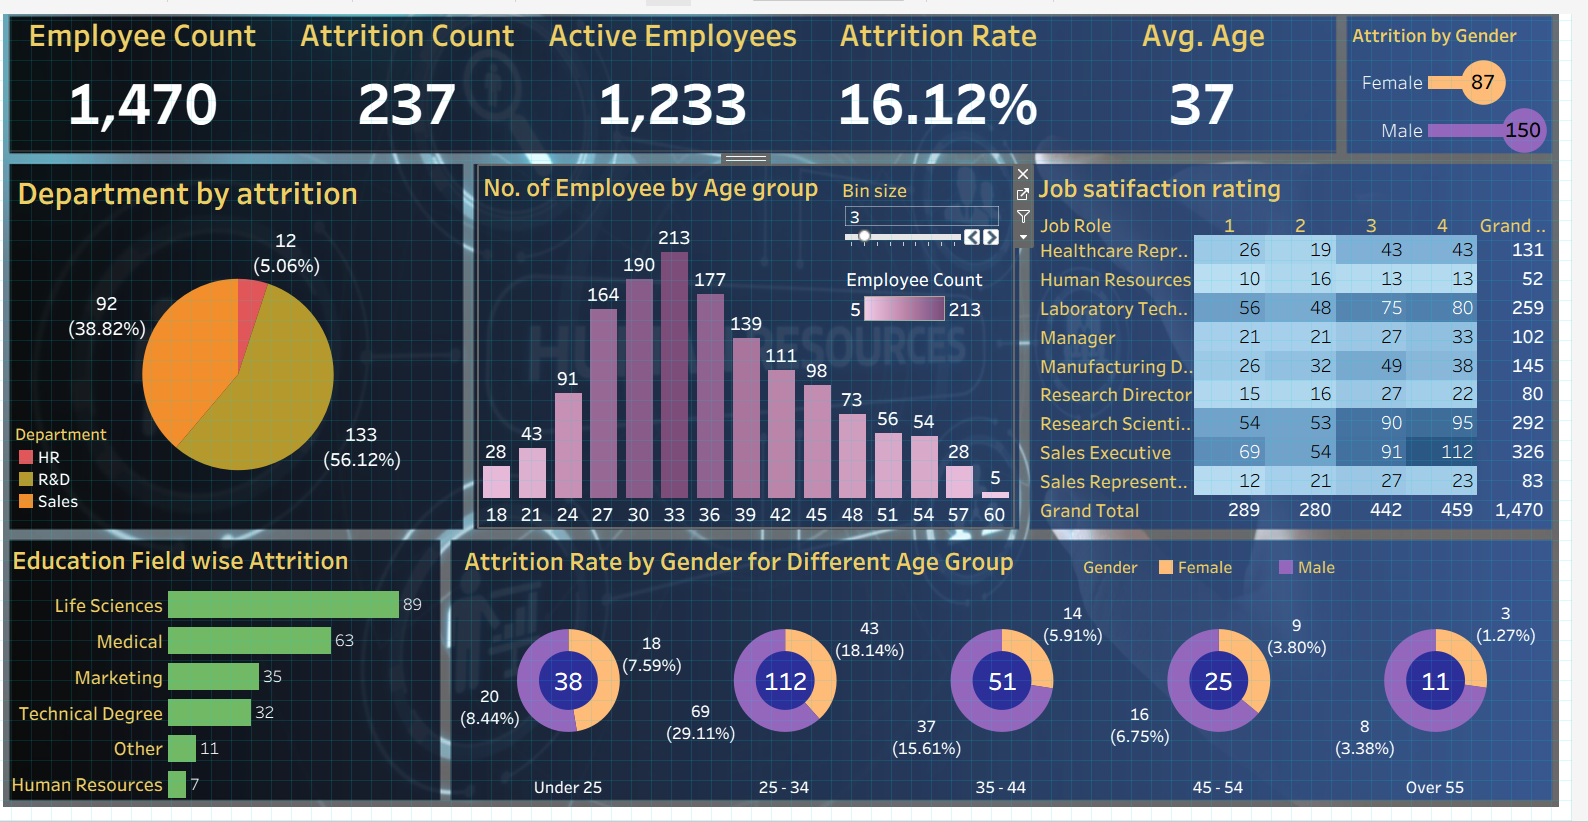

The page's visual inventory and layout, read from the dashboard file:
{"tool":"tableau","page":{"name":"HR Analytics Dashboard","canvas":[1580,900],"ordinal":0},"visuals":[{"type":"image","param":"C:/Users/admin/Downloads/HR background.pptx.png","box":[8,8,1564,884]},{"type":"filter","title":"No. of Employee by Age group","param":"[federated.1ex7qwr1uw190w12ffc9l0mrqhpn].[none:Education:nk]","box":[1105,21,232,58]},{"type":"text","box":[22,26,949,59]},{"type":"worksheet","title":"KPI","mark":"Automatic","box":[19,94,1326,136]},{"type":"worksheet","title":"Attrition by Gender","mark":"Automatic","rows":["Gender"],"cols":["Calculation_515099260636626944","Calculation_515099260636626944"],"box":[1357,98,204,136]},{"type":"worksheet","title":"No. of Employee by Age group","mark":"Automatic","rows":["Employee Count"],"cols":["Age (bin)"],"box":[488,246,534,361]},{"type":"worksheet","title":"Department by attrition","mark":"Pie","box":[22,247,450,359]},{"type":"worksheet","title":"Job satifaction rating","mark":"Square","rows":["Job Role"],"cols":["Job Satisfaction"],"box":[1043,247,515,357]},{"type":"parameter","param":"[Parameters].[Parameter 1]","box":[851,257,160,75]},{"type":"legend","title":"No. of Employee by Age group","param":"[federated.1ex7qwr1uw190w12ffc9l0mrqhpn].[sum:Employee Count:qk]","box":[855,346,140,100]},{"type":"legend","title":"Department by attrition","param":"[federated.1ex7qwr1uw190w12ffc9l0mrqhpn].[none:Department:nk]","box":[24,503,119,101]},{"type":"worksheet","title":"Education Field wise Attrition ","mark":"Automatic","rows":["Education Field"],"cols":["Calculation_515099260636626944"],"box":[17,619,432,263]},{"type":"worksheet","title":"Attrition Rate by Gender for Different Age Group","mark":"Pie","rows":["Calculation_515099260722094085","Calculation_515099260722094085"],"cols":["CF_age band"],"box":[469,620,1084,259]},{"type":"legend","title":"Attrition Rate by Gender for Different Age Group","param":"[federated.1ex7qwr1uw190w12ffc9l0mrqhpn].[none:Gender:nk]","box":[1092,636,346,31]}]}

Visuals, with their boxes in screenshot pixels (x1, y1, x2, y2):
image: (x1=0, y1=11, x2=1405, y2=809)
"No. of Employee by Age group" filter: (x1=984, y1=23, x2=1193, y2=75)
text: (x1=7, y1=28, x2=863, y2=81)
"KPI" worksheet: (x1=5, y1=89, x2=1200, y2=212)
"Attrition by Gender" worksheet: (x1=1211, y1=93, x2=1395, y2=215)
"No. of Employee by Age group" worksheet: (x1=428, y1=226, x2=909, y2=552)
"Department by attrition" worksheet (Pie marks): (x1=7, y1=227, x2=413, y2=551)
"Job satifaction rating" worksheet (Square marks): (x1=928, y1=227, x2=1393, y2=549)
parameter: (x1=755, y1=236, x2=899, y2=304)
"No. of Employee by Age group" legend: (x1=759, y1=316, x2=885, y2=406)
"Department by attrition" legend: (x1=9, y1=458, x2=117, y2=549)
"Education Field wise Attrition " worksheet: (x1=3, y1=562, x2=392, y2=799)
"Attrition Rate by Gender for Different Age Group" worksheet (Pie marks): (x1=411, y1=563, x2=1388, y2=797)
"Attrition Rate by Gender for Different Age Group" legend: (x1=972, y1=578, x2=1284, y2=606)
